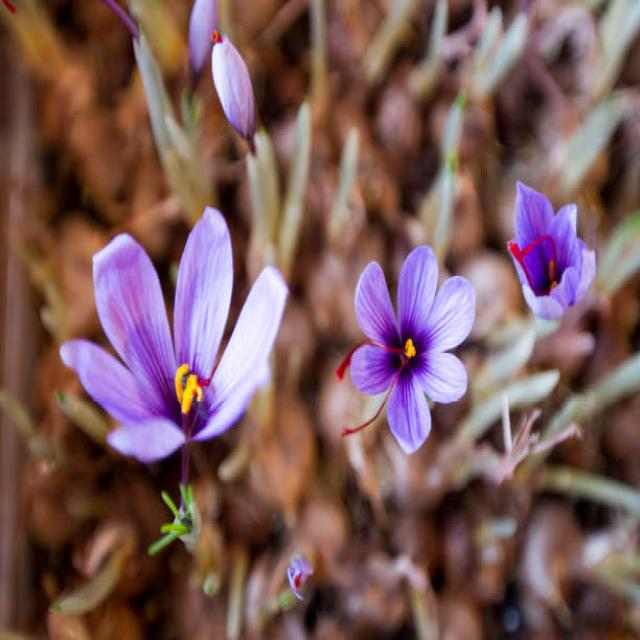saffron closed: (212, 34, 255, 139)
saffron open: (60, 208, 288, 486), (336, 246, 475, 454), (508, 182, 595, 321)
